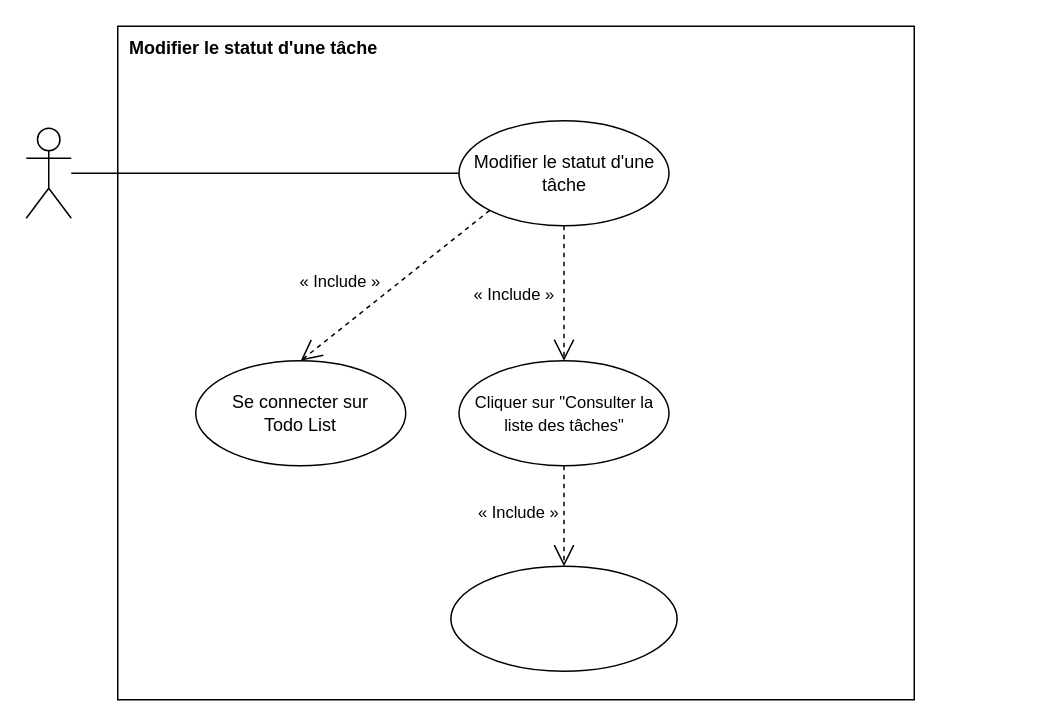
This 1044x726 diagram has some shape labels left out. Each missing label, with the centre of its shape:
Client: the point at 48,172
Sélectionner une tâche et cliquer sur "Marquée comme effectuée": the point at 563,618
